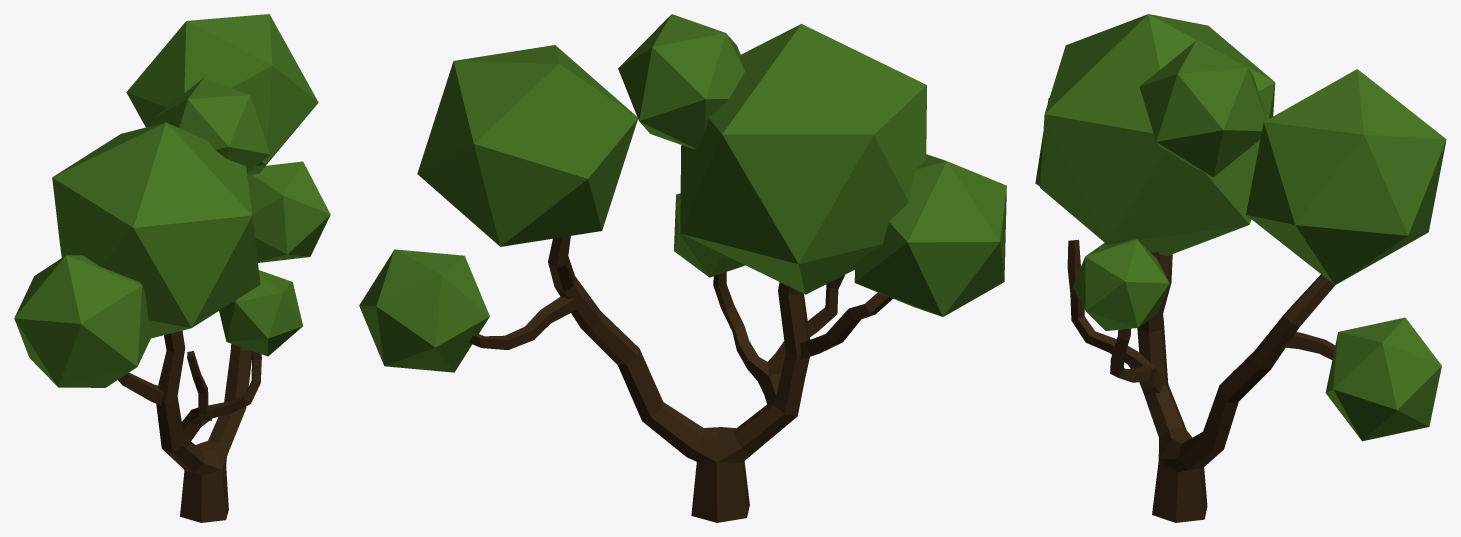
File: Lowpoly_tree_sample.dae
3 views of the same model, side by side, from view 1: azimuth 30°, elevation 25°; view 2: azimuth 150°, elevation 25°; view 3: azimuth 270°, elevation 25° (orthographic). The views are drawn at different scales.
Visible parts, largest first — view 1: Tree_lp_11; view 2: Tree_lp_11; view 3: Tree_lp_11.
Boxes of the visible parts, x1=… form: Tree_lp_11: x1=14, y1=14, x2=330, y2=522; Tree_lp_11: x1=359, y1=14, x2=1006, y2=522; Tree_lp_11: x1=1035, y1=14, x2=1446, y2=522.
Bounding box in the file's own units: 2.8 × 2.65 × 2.08.
